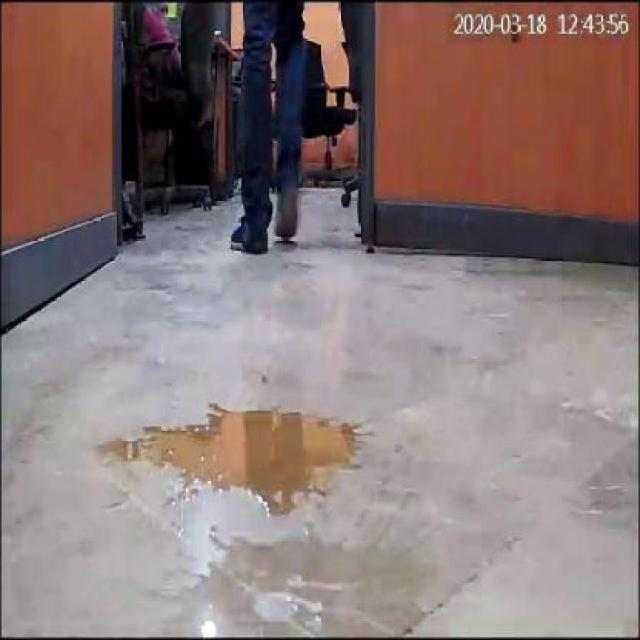spill: (95, 394, 377, 508), (150, 526, 430, 639)
